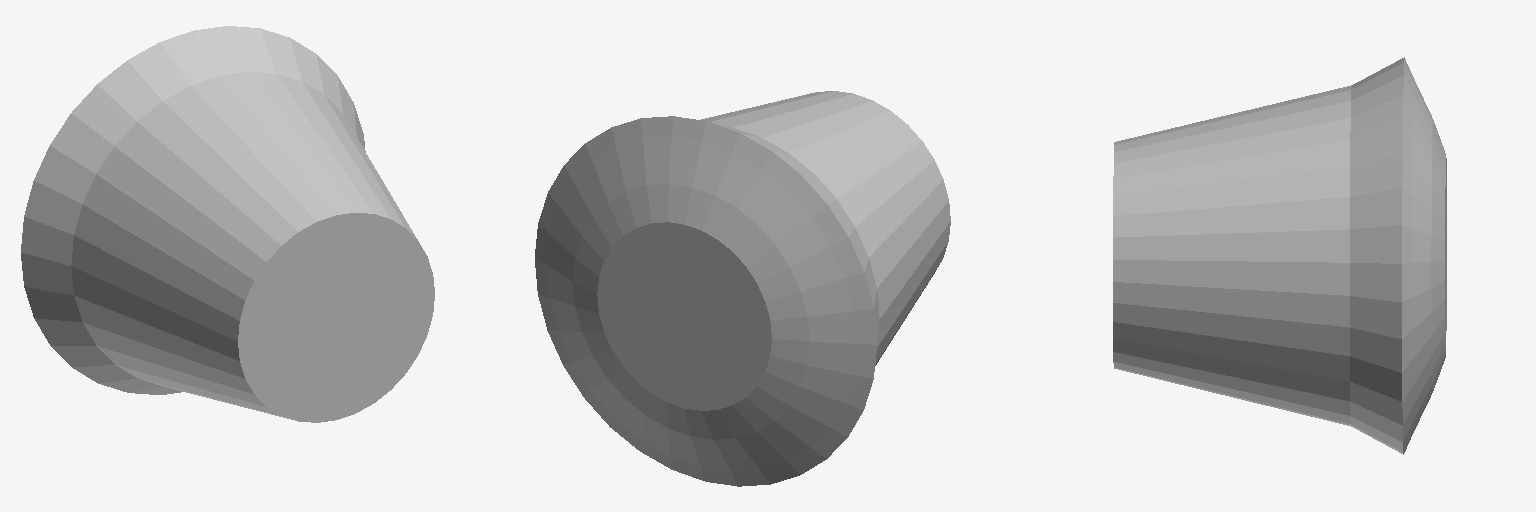
File: light6.obj
3 views of the same model, side by side, from view 1: azimuth 30°, elevation 25°; view 2: azimuth 150°, elevation 25°; view 3: azimuth 270°, elevation 25° (orthographic).
Visible parts, largest first — view 1: Cylinder.005_Cylinder.007; view 2: Cylinder.005_Cylinder.007; view 3: Cylinder.005_Cylinder.007.
Part boxes in pixels (x1,y1,x2,y2): Cylinder.005_Cylinder.007: (21, 26, 434, 422); Cylinder.005_Cylinder.007: (535, 91, 950, 486); Cylinder.005_Cylinder.007: (1113, 57, 1446, 454).
Size of the model in its own units: 3.18 by 3.18 by 2.67.